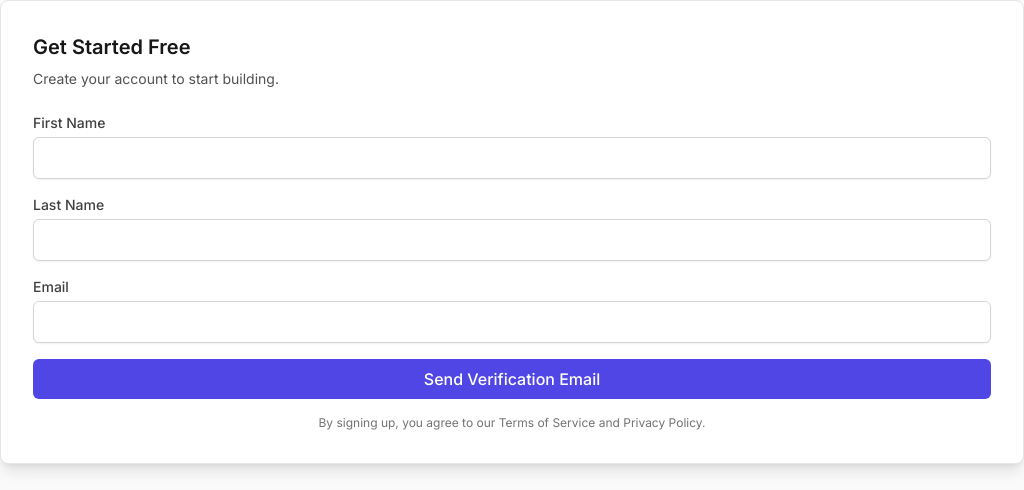
it: RegistrationFormEmbed › Form Submission › shows loading state during submission
This screenshot has width=1024, height=490.
Type "John" into the field labelled "First Name" at point(512, 158), box top-left (33, 137), bottom-right (991, 179)
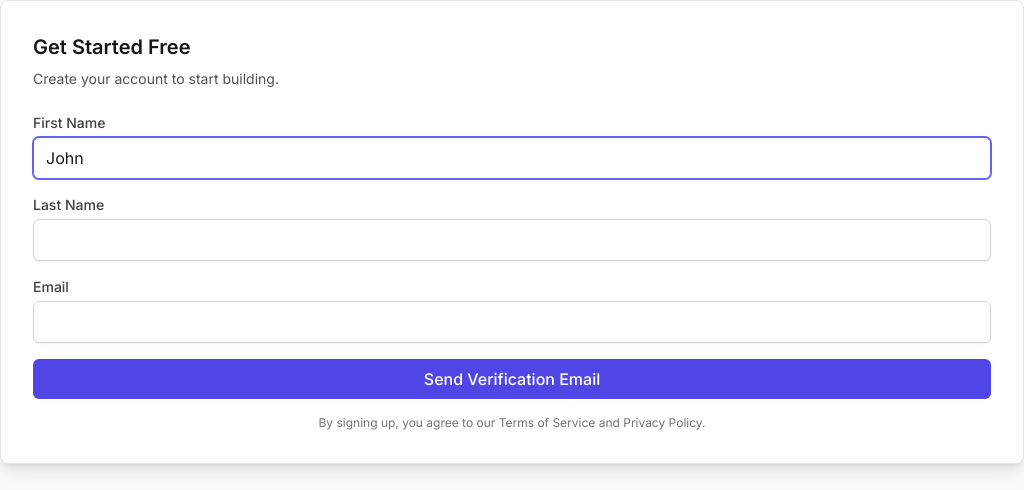
Type "Doe" into the field labelled "Last Name" at point(512, 240), box top-left (33, 219), bottom-right (991, 261)
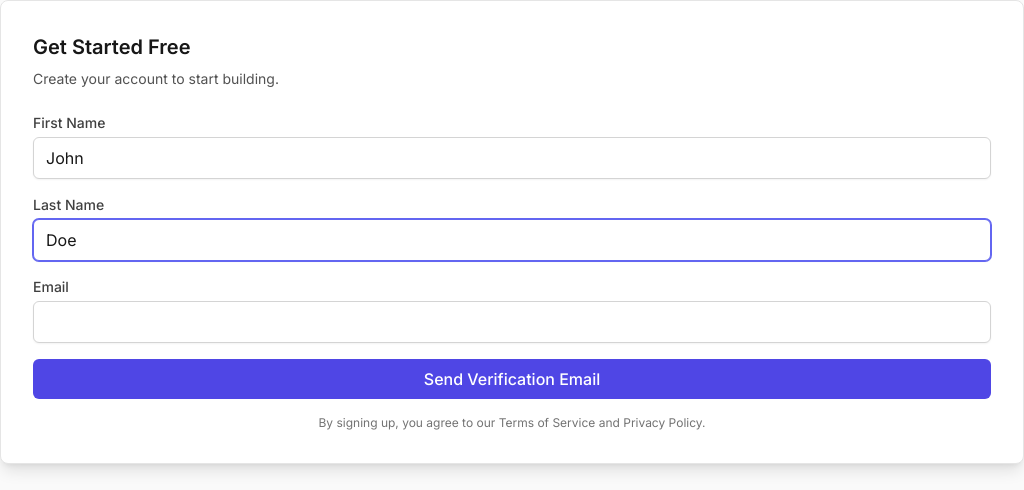
Type "john@example.com" into the field labelled "Email" at point(512, 322), box top-left (33, 301), bottom-right (991, 343)
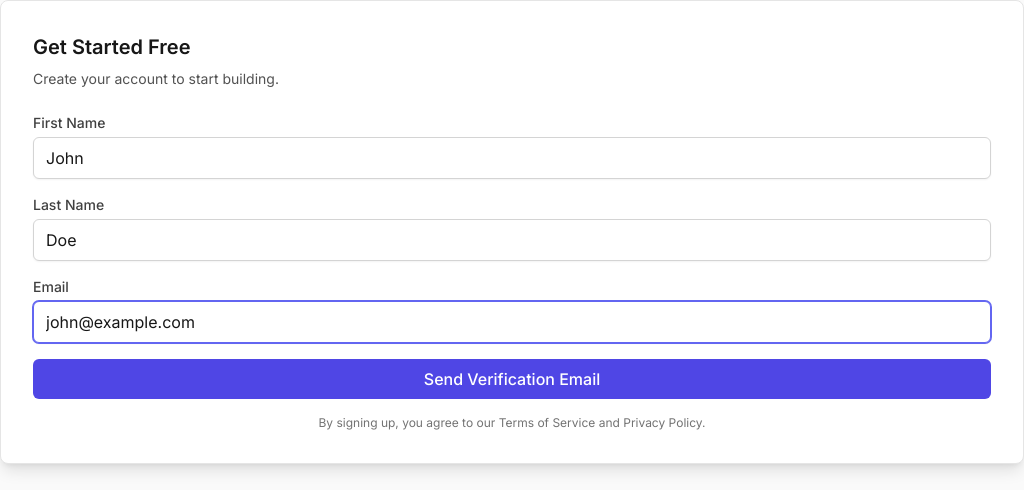
Click the button "Send Verification Email" at point(512, 379), box top-left (33, 359), bottom-right (991, 399)
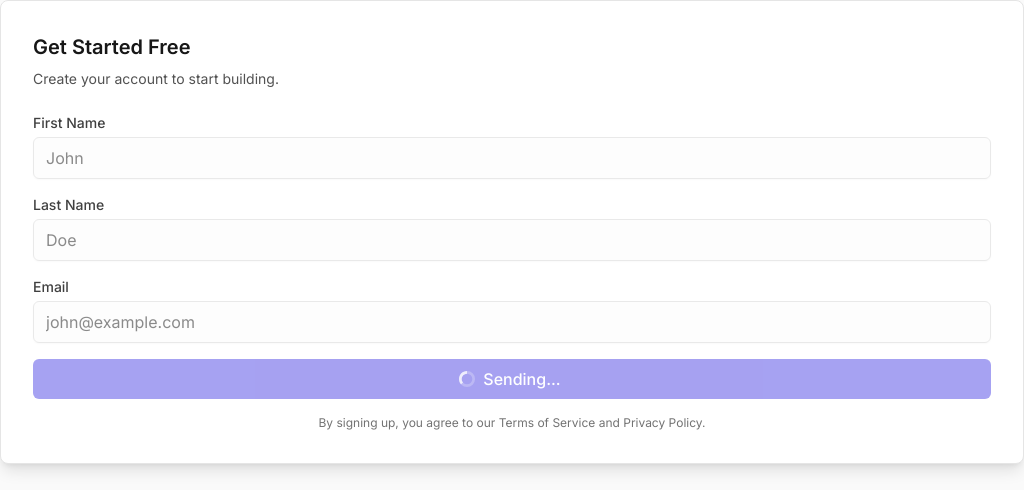
Check: the text "Sending..." is shown, box top-left (459, 369), bottom-right (561, 389)
Check: the button named "send verification email" is disabled, box top-left (33, 359), bottom-right (991, 399)
